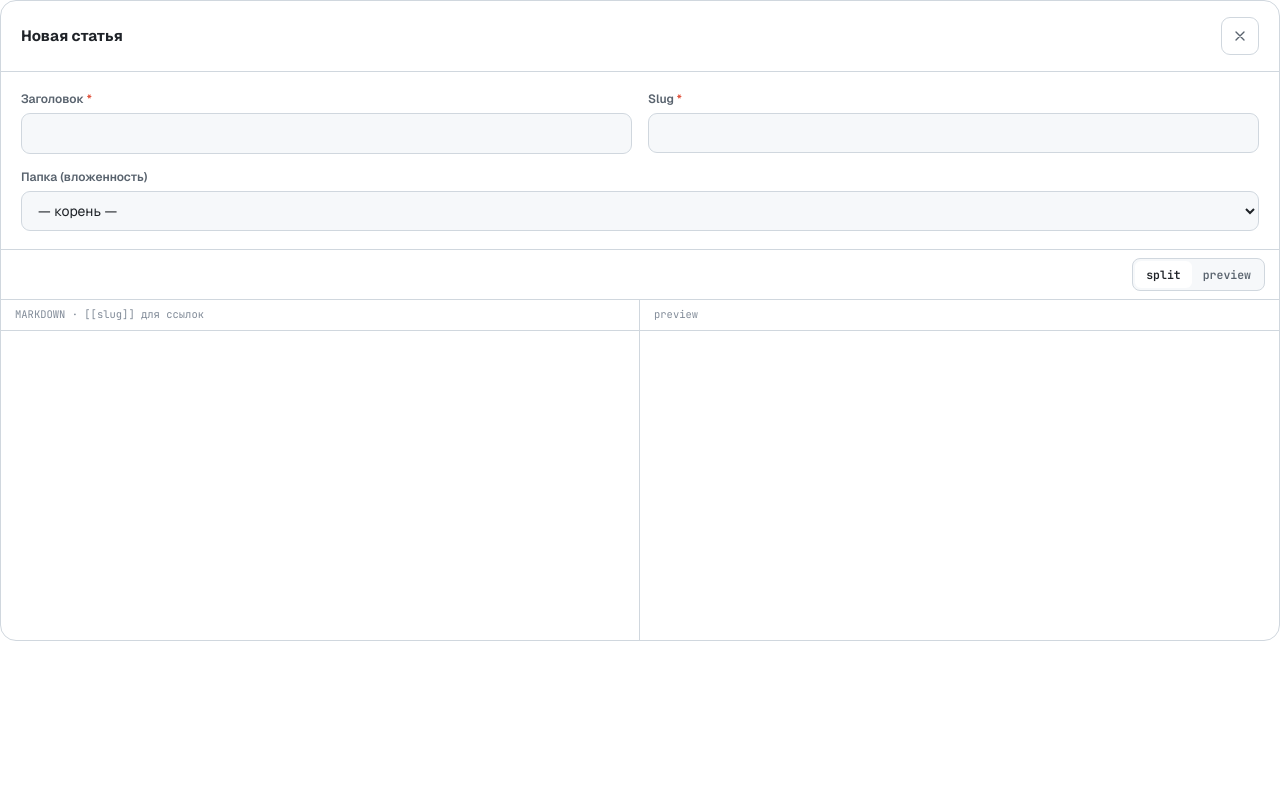
KbArticleEditor › пустые обязательные поля не дают сохранить и показывают ошибку
The image size is (1280, 800).
Делаем форму «грязной» правкой заголовка, но slug/тело пустые.
Step 1. Type "Только заголовок" into the field labelled "Заголовок" → (326, 134), box [21,113,632,154]
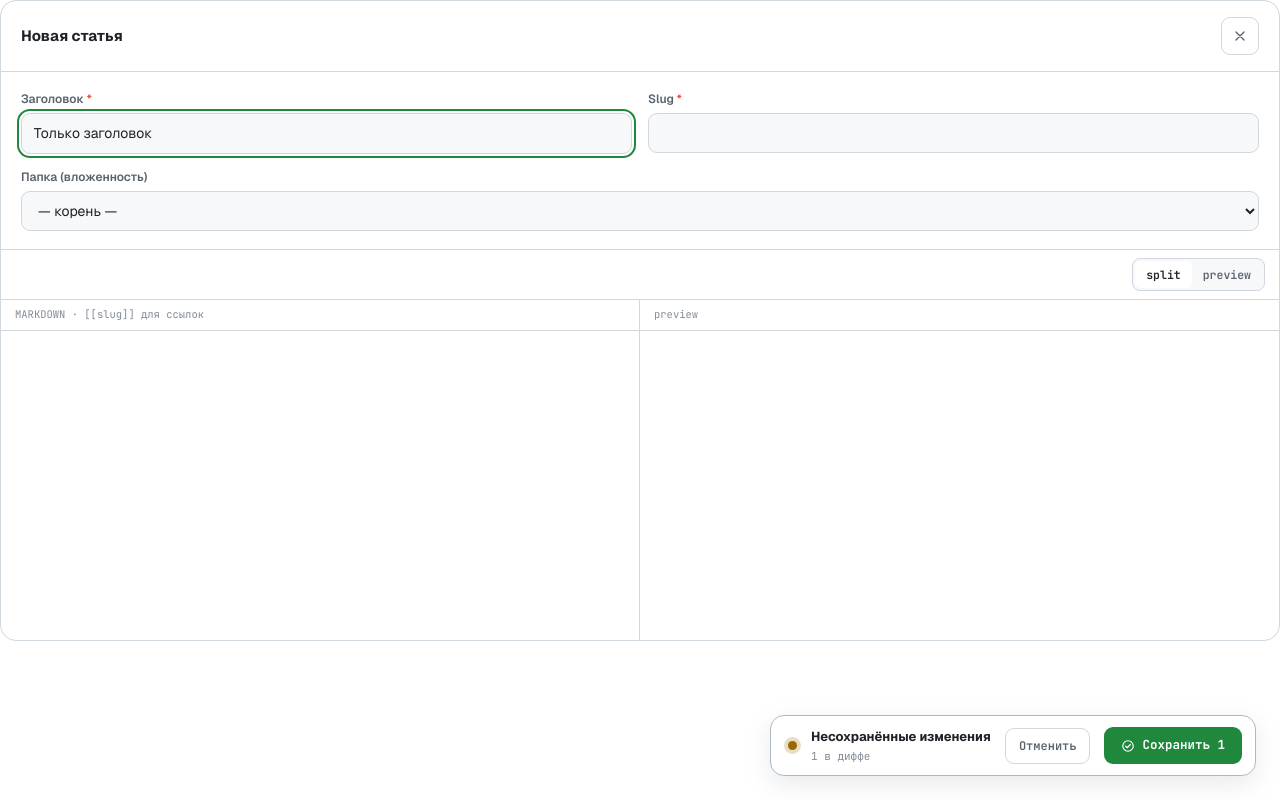
Step 2. Click the button "Сохранить 1" → (1173, 746), box [1104,727,1242,764]
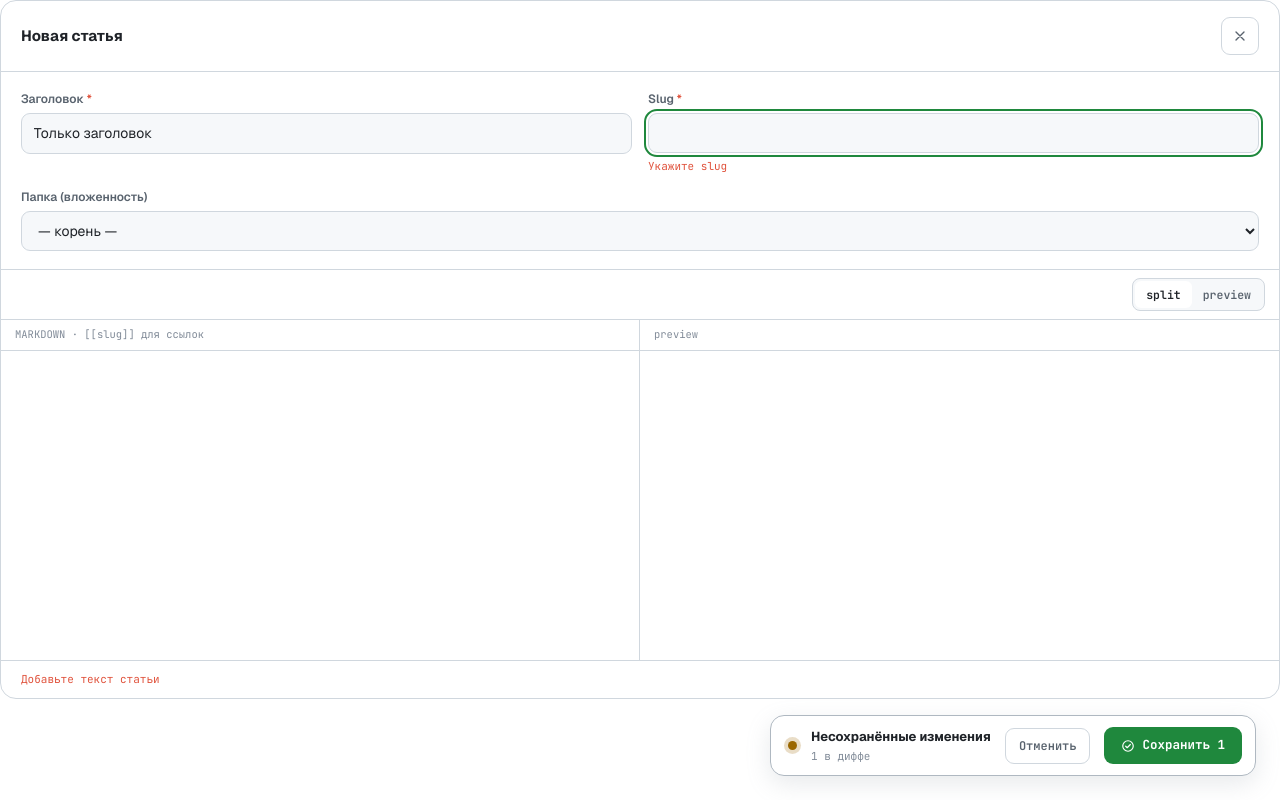
Now the text "Укажите slug" is shown, box [648,158,727,172]
